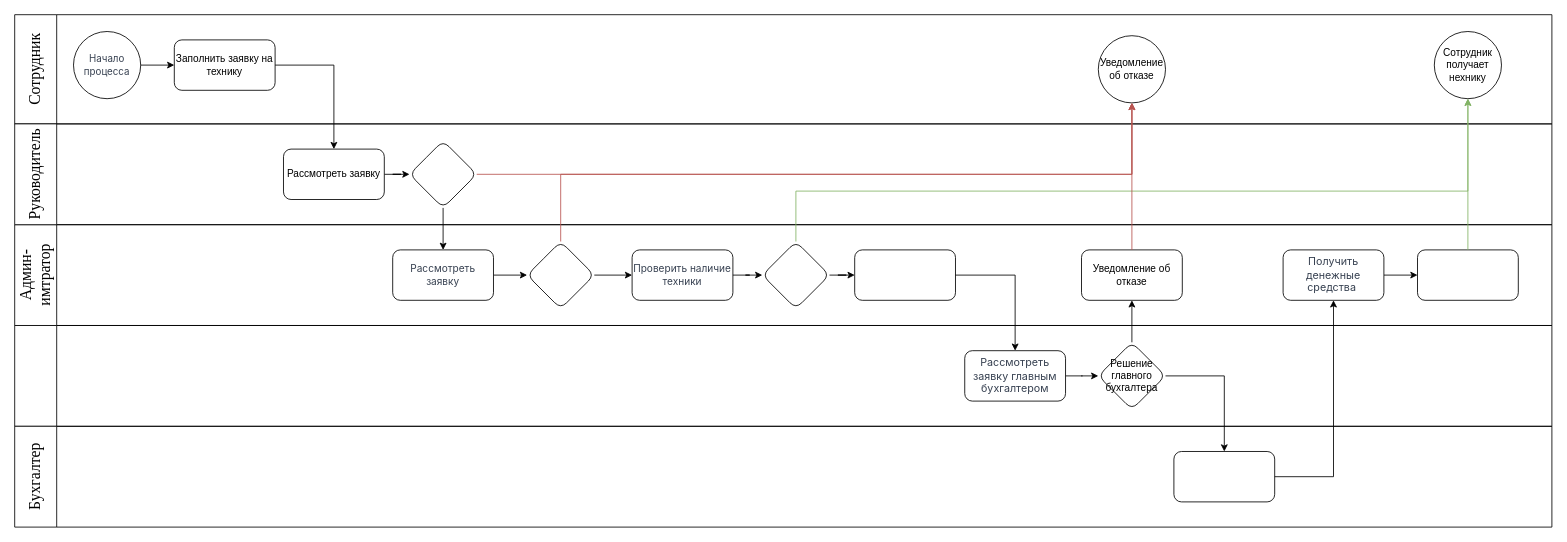
Image size: 1567x542. Some labels were removed from this diagram. Each missing label, with the box of its shape:
Главный бухгалтер: (14, 325, 1552, 426)
Закупить технику: (1417, 249, 1518, 300)
Наличие техники на складе: (761, 241, 830, 309)
Обработать выдачу денежных средст: (1173, 451, 1275, 502)
Подать заявку на выдачу денежных средств: (854, 249, 956, 300)
Решение администратора: (526, 241, 594, 309)
Решение руководителя: (409, 140, 477, 208)
